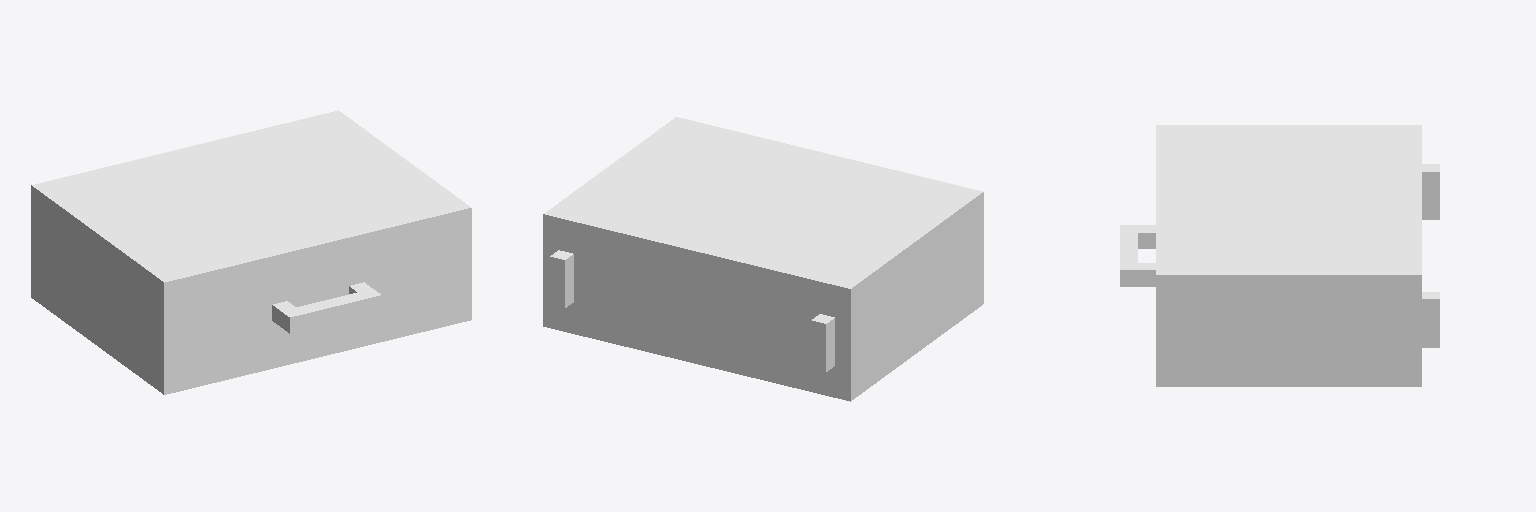
File: GreenLuggage.obj
3 views of the same model, side by side, from view 1: azimuth 30°, elevation 25°; view 2: azimuth 150°, elevation 25°; view 3: azimuth 270°, elevation 25° (orthographic).
Parts seen in each view (by area): view 1: object 1; view 2: object 1; view 3: object 1.
Part boxes in pixels (x1,y1,x2,y2): object 1: (31,110,471,394); object 1: (543,117,983,401); object 1: (1120,125,1439,386).
Size of the model in its own units: 2 by 0.7 by 1.8.